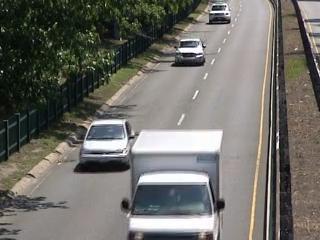car: (76, 117, 141, 168), (172, 36, 209, 69), (206, 2, 235, 28)
truck: (123, 128, 231, 240)
